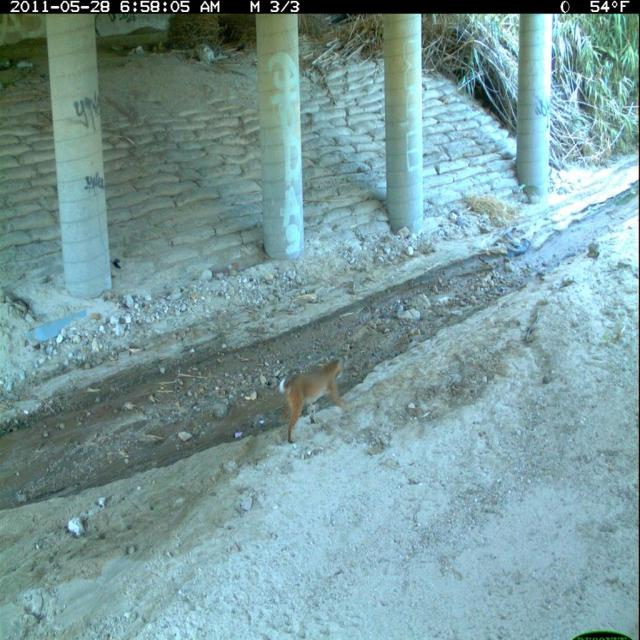bobcat: (277, 354, 354, 447)
